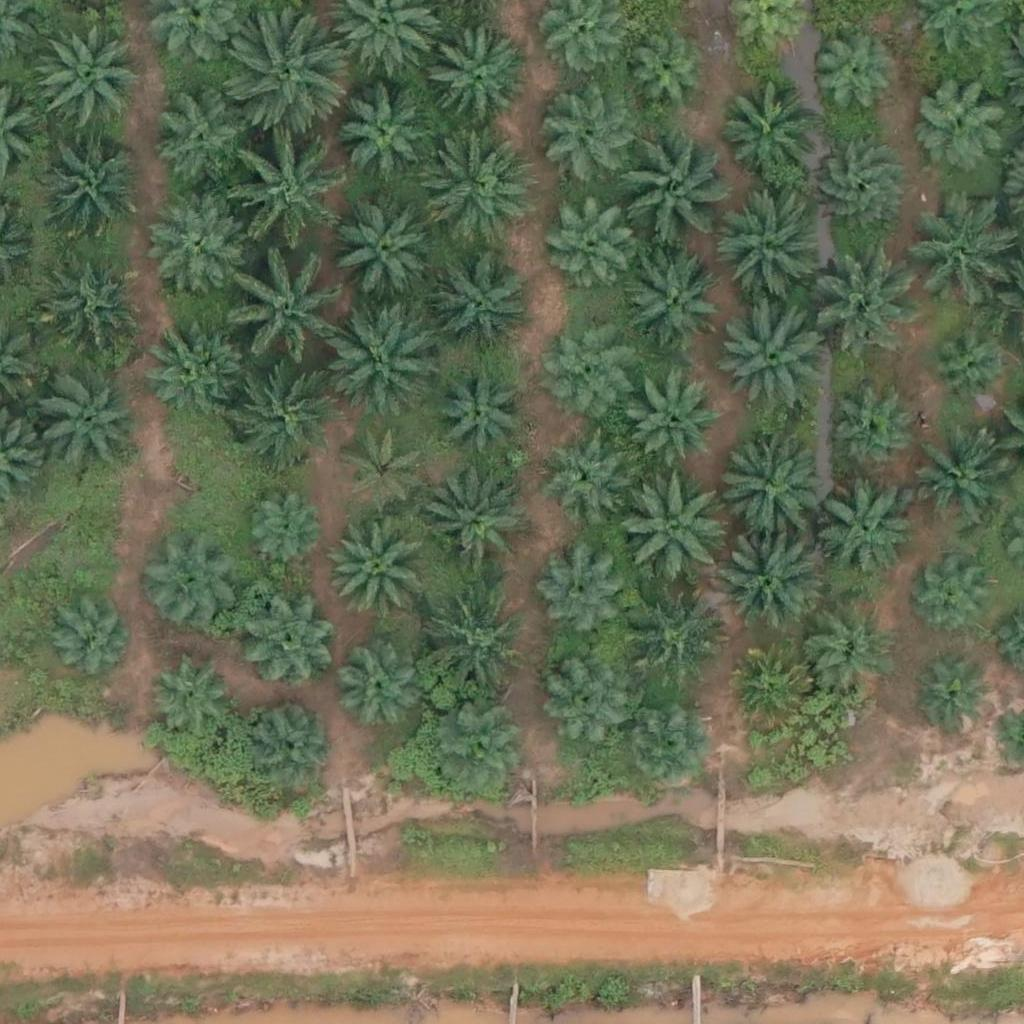Kelapa_Sawit: (710, 297, 823, 411), (715, 524, 828, 637), (707, 428, 820, 541), (419, 27, 532, 140), (420, 136, 533, 249), (330, 193, 443, 306), (229, 19, 342, 132), (713, 193, 825, 307), (615, 470, 727, 584), (807, 238, 919, 351), (611, 132, 723, 245), (415, 593, 527, 706), (328, 309, 440, 422), (24, 18, 136, 131), (231, 144, 343, 257), (231, 262, 343, 375), (226, 360, 338, 473), (904, 433, 1004, 534), (904, 205, 1004, 306), (814, 481, 914, 582), (717, 81, 817, 182), (620, 249, 720, 350), (622, 586, 722, 687), (541, 86, 641, 187), (424, 479, 524, 580), (337, 86, 437, 187), (328, 519, 428, 620), (139, 536, 239, 637), (154, 196, 254, 297), (141, 315, 241, 416), (37, 260, 137, 361), (911, 71, 1011, 171), (809, 139, 909, 239), (433, 706, 533, 806), (237, 586, 337, 686), (158, 89, 258, 189), (39, 142, 139, 242), (39, 374, 139, 474), (431, 254, 530, 355), (722, 644, 810, 732), (925, 322, 1013, 410), (632, 382, 720, 470), (534, 550, 622, 638), (248, 694, 336, 782), (545, 657, 632, 746), (343, 425, 430, 514), (808, 29, 895, 117), (830, 391, 917, 479), (807, 611, 894, 699), (621, 33, 708, 121), (623, 703, 710, 791), (535, 428, 622, 516), (544, 316, 631, 404), (547, 201, 634, 289), (438, 367, 525, 455), (242, 488, 329, 576), (45, 593, 132, 681), (340, 647, 427, 735), (148, 648, 235, 736), (916, 563, 991, 638), (914, 663, 989, 738)
